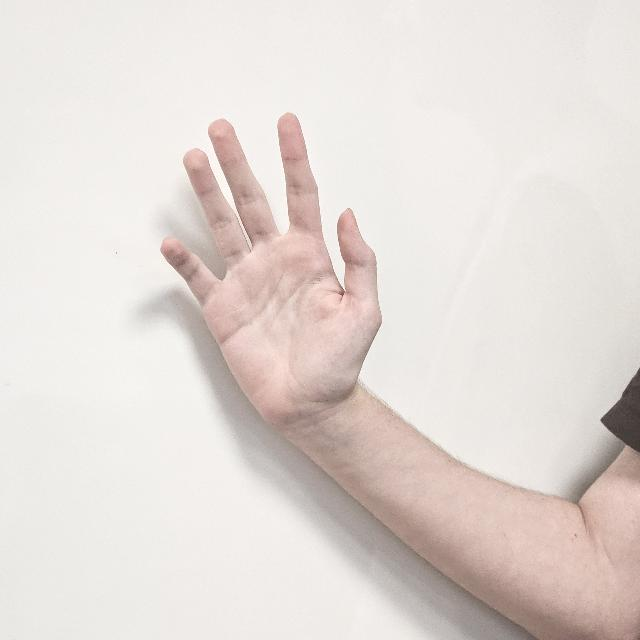X: (157, 111, 393, 435)
